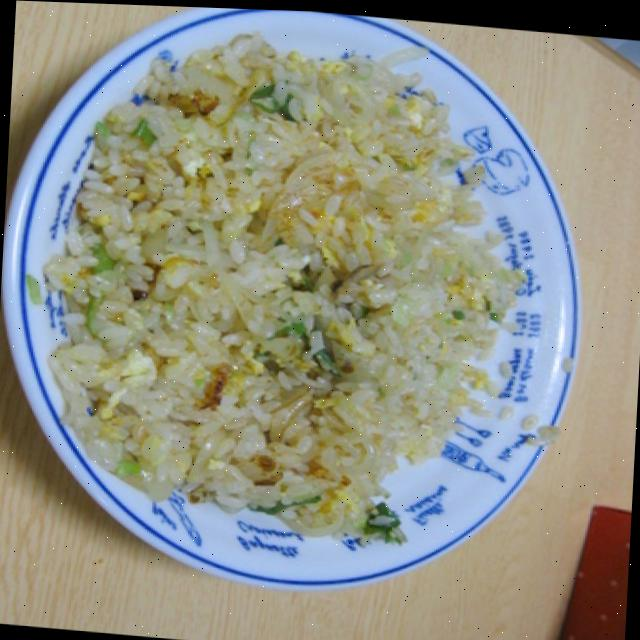米饭主食: (0, 0, 609, 615)
